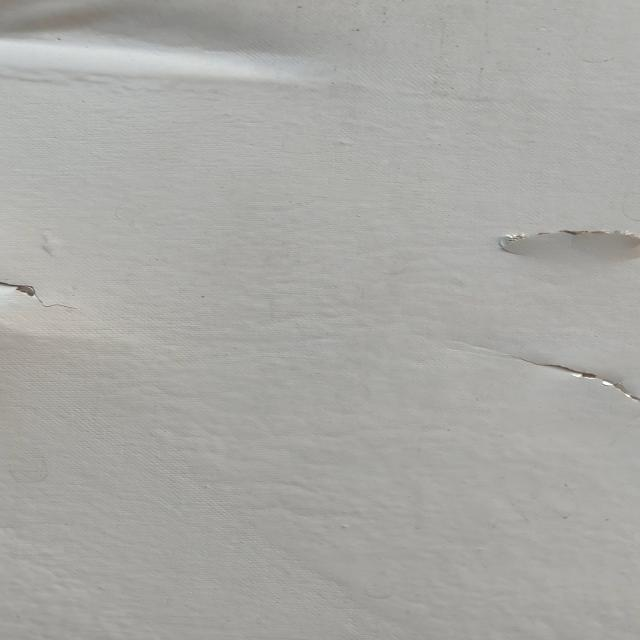Dents or Deformation: (1, 1, 384, 90)
Scratches: (1, 257, 145, 330), (532, 350, 640, 419), (494, 212, 640, 260)
